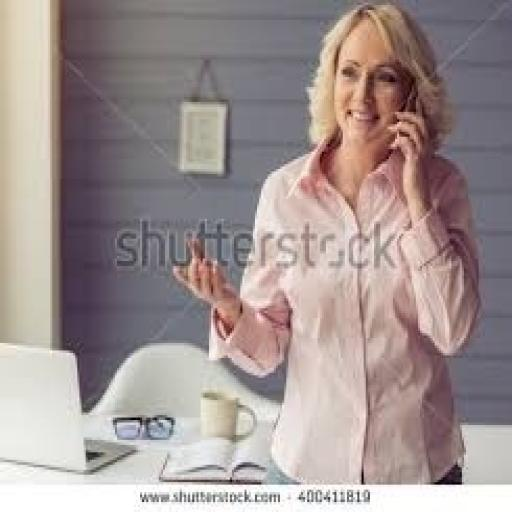using_laptop: (0, 338, 138, 475)
